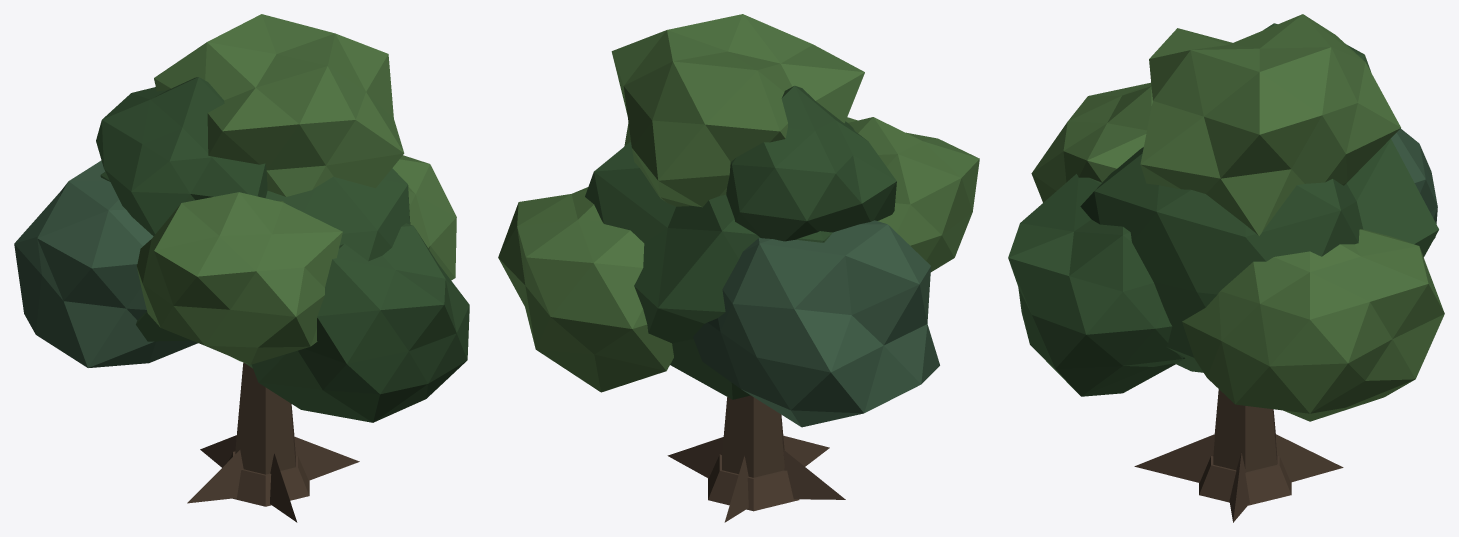
File: roof_bush.glb
3 renders of one model, left to right at view 1: azimuth 30°, elevation 25°; view 2: azimuth 150°, elevation 25°; view 3: azimuth 270°, elevation 25°, orthographic. The views are drawn at different scales.
Visible parts, largest first — view 1: roof_bush; view 2: roof_bush; view 3: roof_bush.
Part boxes in pixels (bbox=[...]): roof_bush: bbox=[14, 14, 469, 522]; roof_bush: bbox=[498, 14, 979, 522]; roof_bush: bbox=[1008, 14, 1444, 522].
Bounding box in the file's own units: 1.35 × 1.4 × 1.21.
Materials: 1 (1 with a texture image).
